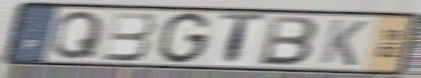B: (257, 15, 320, 68), (100, 11, 158, 63)
G: (155, 11, 213, 66)
K: (318, 18, 370, 68)
Q: (50, 9, 107, 61)
T: (218, 12, 268, 68)
